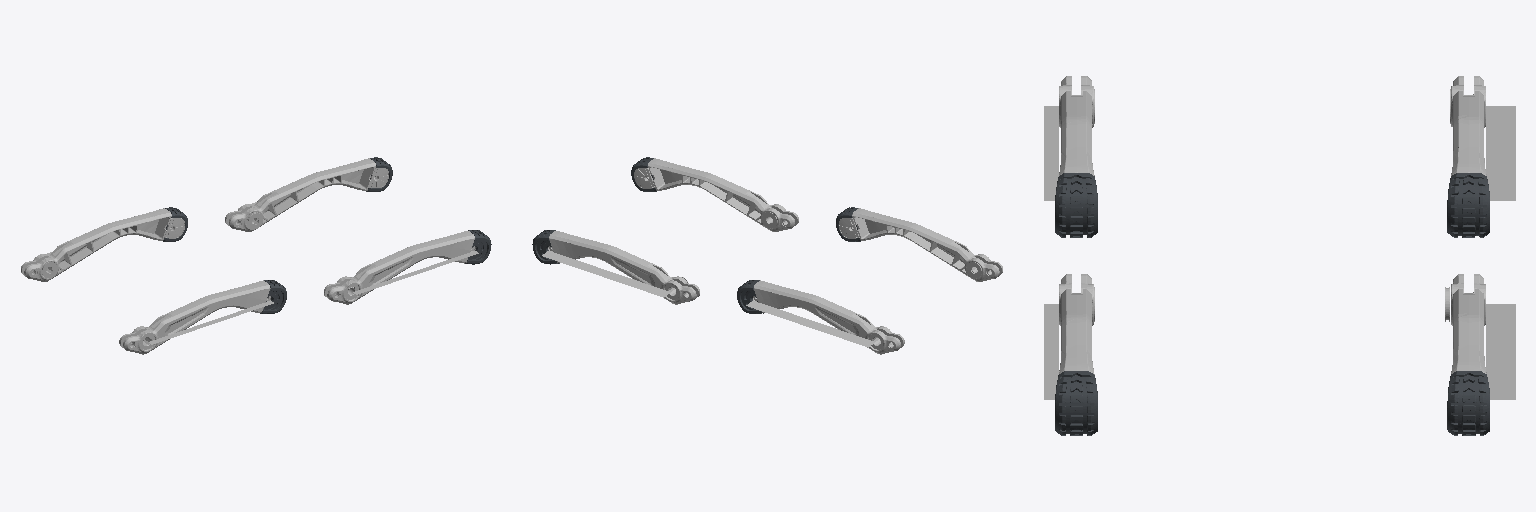
robot.urdf — Argos_2_0114:
<?xml version="1.0" encoding="utf-8"?>
<!-- This URDF was automatically created by SolidWorks to URDF Exporter! Originally created by Stephen Brawner (brawner@gmail.com)
     Commit Version: 1.6.0-4-g7f85cfe  Build Version: 1.6.7995.38578
     For more information, please see http://wiki.ros.org/sw_urdf_exporter -->
<robot
  name="Argos_2_0114">
  <link name="base">
    <inertial>
      <origin xyz="0 0 0" rpy="0 0 0" />
      <mass value="6.240" />
      <inertia ixx="0.02922043" ixy="0" ixz="0" iyy="0.12807702" iyz="0" izz="0.12894751" />
    </inertial>

    <!-- 视觉模型 - 使用STL网格 -->
    <!-- <visual>
      <origin xyz="0.03 0 0" rpy="0 0 0" />
      <geometry>
        <mesh filename="../meshes/TORSO.STL" />
      </geometry>
      <material name="">
        <color rgba="0.75294 0.75294 0.75294 1" />
      </material>
    </visual> -->

    <!-- 碰撞模型 - 使用两个盒子几何体 -->
    <collision>
      <origin xyz="0 0 0.01" rpy="0 0 0"/>
      <geometry>
        <!-- 躯干主要部分的碰撞体 -->
        <box size="0.54 0.16 0.15"/>
      </geometry>
    </collision>
    <collision>
      <origin xyz="-0.01 0 0.01" rpy="0 0 0"/>
      <geometry>
        <!-- 躯干扩展部分的碰撞体 -->
        <box size="0.2 0.2 0.15"/>
      </geometry>
    </collision>

  </link>
  <link
    name="FL_hip">
    <inertial>
      <origin
        xyz="-0.00858663 -0.00606626 0.00210488"
        rpy="0 0 0" />
      <mass
        value="0.544" />
      <inertia
        ixx="0.00035868"
        ixy="0.00"
        ixz="0.00"
        iyy="0.00044821"
        iyz="0.00"
        izz="0.00039697" />
    </inertial>
    <visual>
      <origin
        xyz="0 0 0"
        rpy="0 0 0" />
      <geometry>
        <mesh
          filename="../meshes/FL_HIP.STL" />
      </geometry>
      <material
        name="">
        <color
          rgba="0.752941176470588 0.752941176470588 0.752941176470588 1" />
      </material>
    </visual>
    <collision>
      <origin xyz="0 0.05 0" rpy="1.57079632 0 0"/>
      <geometry>
        <!-- 髋部圆柱体碰撞体 -->
        <cylinder length="0.01" radius="0.04"/>
      </geometry>
    </collision>
  </link>
  <joint
    name="FL_hip_joint"
    type="revolute">
    <origin
      xyz="0.1744 0.054531 -0.015053"
      rpy="0 0 0" />
    <parent
      link="base" />
    <child
      link="FL_hip" />
    <axis xyz="1 0 0" />
    <limit lower="-0.4886" upper="0.4886" effort="21" velocity="22.2" />

  </joint>
  <link
    name="FL_thigh">
    <inertial>
      <origin
        xyz="-0.00433784 -0.02981623 -0.03081075"
        rpy="0 0 0" />
      <mass
        value="1.181" />
      <inertia
        ixx="0.00509108"
        ixy="0"
        ixz="0"
        iyy="0.00508347"
        iyz="0"
        izz="0.00111448" />
    </inertial>
    <visual>
      <origin
        xyz="0 0 0"
        rpy="0 0 0" />
      <geometry>
        <mesh
          filename="../meshes/FL_THIGH.STL" />
      </geometry>
      <material
        name="">
        <color
          rgba="0.752941176470588 0.752941176470588 0.752941176470588 1" />
      </material>
    </visual>
    <collision>
      <origin xyz="-0.012 0 -0.08" rpy="0 0.2 0"/>
      <geometry>
        <!-- 大腿盒子碰撞体 -->
        <box size="0.05 0.04 0.21"/>
      </geometry>
    </collision>
  </link>
  <joint
    name="FL_thigh_joint"
    type="revolute">
    <origin
      xyz="0 0.09134525 0"
      rpy="0 0 0" />
    <parent
      link="FL_hip" />
    <child
      link="FL_thigh" />
    <axis xyz="0 1 0" />
    <limit lower="-0.3525" upper="2.789" effort="21" velocity="22.2" />
  </joint>
  <link
    name="FL_shank">
    <inertial>
      <origin
        xyz="0.00615557 0.00120286 -0.09474520"
        rpy="0 0 0" />
      <mass
        value="0.234" />
      <inertia
        ixx="0.00162293"
        ixy="0"
        ixz="0"
        iyy="0.00164910"
        iyz="0"
        izz="0.00005159" />
    </inertial>
    <visual>
      <origin
        xyz="0 0 0"
        rpy="0 0 0" />
      <geometry>
        <mesh
          filename="../meshes/FL_SHANK.STL" />
      </geometry>
      <material
        name="">
        <color
          rgba="0.752941176470588 0.752941176470588 0.752941176470588 1" />
      </material>
    </visual>
        <!-- 碰撞模型 - 三个圆柱体 -->
    <collision>
        <origin xyz="0.006 0 -0.05" rpy="0 -0.2 0"/>
        <geometry>
            <cylinder length="0.12" radius="0.015"/>
        </geometry>
    </collision>
    <collision>
        <origin xyz="0.018 0 -0.14" rpy="0 0 0"/>
        <geometry>
            <cylinder length="0.03" radius="0.014"/>
        </geometry>
    </collision>
    <collision>
      <origin xyz="0.008 0 -0.18" rpy="0 0.26 0"/>
      <geometry>
        <!-- 小腿下部圆柱体碰撞体 -->
        <cylinder length="0.05" radius="0.016"/>
      </geometry>
    </collision>
  </link>
  <joint
    name="FL_calf_joint"
    type="revolute">
    <origin
      xyz="0 0 -0.2"
      rpy="0 0 0" />
    <parent
      link="FL_thigh" />
    <child
      link="FL_shank" />
    <axis xyz="0 1 0" />
    <limit lower="-2.6929" upper="-0.6335" effort="32" velocity="14.5" />

  </joint>
  <link
    name="FL_foot">
    <inertial>
      <mass value="0.02"/>
      <inertia ixx="0" ixy="0" ixz="0" iyy="0" iyz="0" izz="0"/>
    </inertial>
    <visual>
      <origin
        xyz="0 0 0"
        rpy="0 0 0" />
      <geometry>
        <mesh
          filename="../meshes/FL_FOOT.STL" />
      </geometry>
      <material
        name="">
        <color
          rgba="0.309803921568627 0.329411764705882 0.349019607843137 1" />
      </material>
    </visual>
    <collision>
      <origin xyz="0 0 -0.008" />
      <geometry>
        <!-- 脚部球体碰撞体(半径0.022) -->
        <sphere radius="0.022"/>
      </geometry>
    </collision>
  </link>
  <joint
    name="FL_Ankle"
    type="fixed" dont_collapse="true">
    <origin
      xyz="0 0 -0.21"
      rpy="0 0 0" />
    <parent
      link="FL_shank" />
    <child
      link="FL_foot" />
    <axis
      xyz="0 0 0" />
    <limit
      lower="0"
      upper="0"
      effort="0"
      velocity="0" />
  </joint>
  <link
    name="FR_hip">
    <inertial>
      <origin
        xyz="-0.00858663 0.00606626 0.00210488"
        rpy="0 0 0" />
      <mass
        value="0.544" />
      <inertia
        ixx="0.00035868"
        ixy="0.00"
        ixz="0.00"
        iyy="0.00044821"
        iyz="0.00"
        izz="0.00039697" />
    </inertial>
    <visual>
      <origin
        xyz="0 0 0"
        rpy="0 0 0" />
      <geometry>
        <mesh
          filename="../meshes/FR_HIP.STL" />
      </geometry>
      <material
        name="">
        <color
          rgba="0.752941176470588 0.752941176470588 0.752941176470588 1" />
      </material>
    </visual>
    <collision>
      <origin xyz="0 -0.05 0" rpy="1.57079632 0 0"/>
      <geometry>
        <cylinder length="0.01" radius="0.04"/>
      </geometry>
    </collision>
  </link>
  <joint
    name="FR_hip_joint"
    type="revolute">
    <origin
      xyz="0.1744 -0.054531 -0.015053"
      rpy="0 0 0" />
    <parent
      link="base" />
    <child
      link="FR_hip" />
    <axis xyz="1 0 0" />
    <limit lower="-0.4886" upper="0.4886" effort="21" velocity="22.2" />

  </joint>
  <link
    name="FR_thigh">
    <inertial>
      <origin
        xyz="-0.00433784 0.02981623 -0.03081075"
        rpy="0 0 0" />
      <mass
        value="1.181" />
      <inertia
        ixx="0.00509108"
        ixy="0"
        ixz="0"
        iyy="0.00508347"
        iyz="0"
        izz="0.00111448" />
    </inertial>
    <visual>
      <origin
        xyz="0 0 0"
        rpy="0 0 0" />
      <geometry>
        <mesh
          filename="../meshes/FR_THIGH.STL" />
      </geometry>
      <material
        name="">
        <color
          rgba="0.752941176470588 0.752941176470588 0.752941176470588 1" />
      </material>
    </visual>
    <collision>
      <origin xyz="-0.012 0 -0.08" rpy="0 0.2 0"/>
      <geometry>
        <!-- 大腿盒子碰撞体 -->
        <box size="0.05 0.04 0.21"/>
      </geometry>
    </collision>
  </link>
  <joint
    name="FR_thigh_joint"
    type="revolute">
    <origin
      xyz="0 -0.09134525 0"
      rpy="0 0 0" />
    <parent
      link="FR_hip" />
    <child
      link="FR_thigh" />
    <axis xyz="0 1 0" />
    <limit lower="-0.3525" upper="2.789" effort="21" velocity="22.2" />

  </joint>
  <link
    name="FR_shank">
    <inertial>
      <origin
        xyz="0.00615557 -0.00120286 -0.09474520"
        rpy="0 0 0" />
      <mass
        value="0.234" />
      <inertia
        ixx="0.00162293"
        ixy="0"
        ixz="0"
        iyy="0.00164910"
        iyz="0"
        izz="0.00005159" />
    </inertial>
    <visual>
      <origin
        xyz="0 0 0"
        rpy="0 0 0" />
      <geometry>
        <mesh
          filename="../meshes/FR_SHANK.STL" />
      </geometry>
      <material
        name="">
        <color
          rgba="0.752941176470588 0.752941176470588 0.752941176470588 1" />
      </material>
    </visual>
          <!-- 碰撞模型 - 三个圆柱体 -->
    <collision>
        <origin xyz="0.006 0 -0.05" rpy="0 -0.2 0"/>
        <geometry>
            <cylinder length="0.12" radius="0.015"/>
        </geometry>
    </collision>
    <collision>
        <origin xyz="0.018 0 -0.14" rpy="0 0 0"/>
        <geometry>
            <cylinder length="0.03" radius="0.014"/>
        </geometry>
    </collision>
    <collision>
      <origin xyz="0.008 0 -0.18" rpy="0 0.26 0"/>
      <geometry>
        <!-- 小腿下部圆柱体碰撞体 -->
        <cylinder length="0.05" radius="0.016"/>
      </geometry>
    </collision>
  </link>
  <joint
    name="FR_calf_joint"
    type="revolute">
    <origin
      xyz="0 0 -0.2"
      rpy="0 0 0" />
    <parent
      link="FR_thigh" />
    <child
      link="FR_shank" />
    <axis xyz="0 1 0" />
    <limit lower="-2.6929" upper="-0.6335" effort="32" velocity="14.5" />

  </joint>
  <link
    name="FR_foot">
    <inertial>
      <mass value="0.02"/>
      <inertia ixx="0" ixy="0" ixz="0" iyy="0" iyz="0" izz="0"/>
    </inertial>
    <visual>
      <origin
        xyz="0 0 0"
        rpy="0 0 0" />
      <geometry>
        <mesh
          filename="../meshes/FR_FOOT.STL" />
      </geometry>
      <material
        name="">
        <color
          rgba="0.309803921568627 0.329411764705882 0.349019607843137 1" />
      </material>
    </visual>
     <collision>
      <origin xyz="0 0 -0.008" />
      <geometry>
        <sphere radius="0.022"/>
      </geometry>
    </collision>
  </link>
  <joint
    name="FR_Ankle"
    type="fixed" dont_collapse="true">
    <origin
      xyz="0 0 -0.21"
      rpy="0 0 0" />
    <parent
      link="FR_shank" />
    <child
      link="FR_foot" />
    <axis
      xyz="0 0 0" />
    <limit
      lower="0"
      upper="0"
      effort="0"
      velocity="0" />
  </joint>
  <link
    name="HL_hip">
    <inertial>
      <origin
        xyz="0.00858663 -0.00606626 0.00210488"
        rpy="0 0 0" />
      <mass
        value="0.544" />
      <inertia
        ixx="0.00035868"
        ixy="0.00"
        ixz="0.00"
        iyy="0.00044821"
        iyz="0.00"
        izz="0.00039697" />
    </inertial>
    <visual>
      <origin
        xyz="0 0 0"
        rpy="0 0 0" />
      <geometry>
        <mesh
          filename="../meshes/HL_HIP.STL" />
      </geometry>
      <material
        name="">
        <color
          rgba="0.752941176470588 0.752941176470588 0.752941176470588 1" />
      </material>
    </visual>
    <collision>
      <origin xyz="0 0.05 0" rpy="1.57079632 0 0"/>
      <geometry>
        <cylinder length="0.01" radius="0.04"/>
      </geometry>
    </collision>
  </link>
  <joint
    name="RL_hip_joint"
    type="revolute">
    <origin
      xyz="-0.1744 0.054531 -0.015053"
      rpy="0 0 0" />
    <parent
      link="base" />
    <child
      link="HL_hip" />
    <axis xyz="1 0 0" />
    <limit lower="-0.4886" upper="0.4886" effort="21" velocity="22.2" />

  </joint>
  <link
    name="HL_thigh">
    <inertial>
      <origin
        xyz="-0.00433784 -0.02981623 -0.03081075"
        rpy="0 0 0" />
      <mass
        value="1.181" />
      <inertia
        ixx="0.00509108"
        ixy="0"
        ixz="0"
        iyy="0.00508347"
        iyz="0"
        izz="0.00111448" />
    </inertial>
    <visual>
      <origin
        xyz="0 0 0"
        rpy="0 0 0" />
      <geometry>
        <mesh
          filename="../meshes/HL_THIGH.STL" />
      </geometry>
      <material
        name="">
        <color
          rgba="0.752941176470588 0.752941176470588 0.752941176470588 1" />
      </material>
    </visual>
    <collision>
      <origin xyz="-0.012 0 -0.08" rpy="0 0.2 0"/>
      <geometry>
        <!-- 大腿盒子碰撞体 -->
        <box size="0.05 0.04 0.21"/>
      </geometry>
    </collision>
  </link>
  <joint
    name="RL_thigh_joint"
    type="revolute">
    <origin
      xyz="0 0.09134525 0"
      rpy="0 0 0" />
    <parent
      link="HL_hip" />
    <child
      link="HL_thigh" />
    <axis xyz="0 1 0" />
    <limit lower="-0.3525" upper="2.789" effort="21" velocity="22.2" />

  </joint>
  <link
    name="HL_shank">
    <inertial>
      <origin
        xyz="0.00615557 0.00120286 -0.09474520"
        rpy="0 0 0" />
      <mass
        value="0.234" />
      <inertia
        ixx="0.00162293"
        ixy="0"
        ixz="0"
        iyy="0.00164910"
        iyz="0"
        izz="0.00005159" />
    </inertial>
    <visual>
      <origin
        xyz="0 0 0"
        rpy="0 0 0" />
      <geometry>
        <mesh
          filename="../meshes/HL_SHANK.STL" />
      </geometry>
      <material
        name="">
        <color
          rgba="0.752941176470588 0.752941176470588 0.752941176470588 1" />
      </material>
    </visual>
        <!-- 碰撞模型 - 三个圆柱体 -->
        <collision>
        <origin xyz="0.006 0 -0.05" rpy="0 -0.2 0"/>
        <geometry>
            <cylinder length="0.12" radius="0.015"/>
        </geometry>
    </collision>
    <collision>
        <origin xyz="0.018 0 -0.14" rpy="0 0 0"/>
        <geometry>
            <cylinder length="0.03" radius="0.014"/>
        </geometry>
    </collision>
    <collision>
      <origin xyz="0.008 0 -0.18" rpy="0 0.26 0"/>
      <geometry>
        <!-- 小腿下部圆柱体碰撞体 -->
        <cylinder length="0.05" radius="0.016"/>
      </geometry>
    </collision>
  </link>
  <joint
    name="RL_calf_joint"
    type="revolute">
    <origin
      xyz="0 0 -0.2"
      rpy="0 0 0" />
    <parent
      link="HL_thigh" />
    <child
      link="HL_shank" />
    <axis xyz="0 1 0" />
    <limit lower="-2.6929" upper="-0.6335" effort="32" velocity="14.5" />

  </joint>
  <link
    name="HL_foot">
    <inertial>
      <mass value="0.02"/>
      <inertia ixx="0" ixy="0" ixz="0" iyy="0" iyz="0" izz="0"/>
    </inertial>
    <visual>
      <origin
        xyz="0 0 0"
        rpy="0 0 0" />
      <geometry>
        <mesh
          filename="../meshes/HL_FOOT.STL" />
      </geometry>
      <material
        name="">
        <color
          rgba="0.309803921568627 0.329411764705882 0.349019607843137 1" />
      </material>
    </visual>
    <collision>
      <origin xyz="0 0 -0.008" />
      <geometry>
        <!-- 脚部球体碰撞体(半径0.022) -->
        <sphere radius="0.022"/>
      </geometry>
    </collision>
  </link>
  <joint
    name="HL_Ankle"
    type="fixed" dont_collapse="true">
    <origin
      xyz="0 0 -0.21"
      rpy="0 0 0" />
    <parent
      link="HL_shank" />
    <child
      link="HL_foot" />
    <axis
      xyz="0 0 0" />
    <limit
      lower="0"
      upper="0"
      effort="0"
      velocity="0" />
  </joint>
  <link
    name="HR_hip">
    <inertial>
      <origin
        xyz="0.00858663 0.00606626 0.00210488"
        rpy="0 0 0" />
      <mass
        value="0.544" />
      <inertia
        ixx="0.00035868"
        ixy="0.00"
        ixz="0.00"
        iyy="0.00044821"
        iyz="0.00"
        izz="0.00039697" />
    </inertial>
    <visual>
      <origin
        xyz="0 0 0"
        rpy="0 0 0" />
      <geometry>
        <mesh
          filename="../meshes/HR_HIP.STL" />
      </geometry>
      <material
        name="">
        <color
          rgba="0.752941176470588 0.752941176470588 0.752941176470588 1" />
      </material>
    </visual>
    <collision>
      <origin xyz="0 -0.05 0" rpy="1.57079632 0 0"/>
      <geometry>
        <cylinder length="0.01" radius="0.04"/>
      </geometry>
    </collision>
  </link>
  <joint
    name="RR_hip_joint"
    type="revolute">
    <origin
      xyz="-0.1744 -0.054531 -0.015053"
      rpy="0 0 0" />
    <parent
      link="base" />
    <child
      link="HR_hip" />
    <axis xyz="1 0 0" />
    <limit lower="-0.4886" upper="0.4886" effort="21" velocity="22.2" />

  </joint>
  <link
    name="HR_thigh">
    <inertial>
      <origin
        xyz="-0.00433784 0.02981623 -0.03081075"
        rpy="0 0 0" />
      <mass
        value="1.181" />
      <inertia
        ixx="0.00509108"
        ixy="0"
        ixz="0"
        iyy="0.00508347"
        iyz="0"
        izz="0.00111448" />
    </inertial>
    <visual>
      <origin
        xyz="0 0 0"
        rpy="0 0 0" />
      <geometry>
        <mesh
          filename="../meshes/HR_THIGH.STL" />
      </geometry>
      <material
        name="">
        <color
          rgba="0.752941176470588 0.752941176470588 0.752941176470588 1" />
      </material>
    </visual>
    <collision>
      <origin xyz="-0.012 0 -0.08" rpy="0 0.2 0"/>
      <geometry>
        <!-- 大腿盒子碰撞体 -->
        <box size="0.05 0.04 0.21"/>
      </geometry>
    </collision>
  </link>
  <joint
    name="RR_thigh_joint"
    type="revolute">
    <origin
      xyz="0 -0.09134525 0"
      rpy="0 0 0" />
    <parent
      link="HR_hip" />
    <child
      link="HR_thigh" />
    <axis xyz="0 1 0" />
    <limit lower="-0.3525" upper="2.789" effort="21" velocity="22.2" />

  </joint>
  <link
    name="HR_shank">
    <inertial>
      <origin
        xyz="0.00615557 -0.00120286 -0.09474520"
        rpy="0 0 0" />
      <mass
        value="0.234" />
      <inertia
        ixx="0.00162293"
        ixy="0"
        ixz="0"
        iyy="0.00164910"
        iyz="0"
        izz="0.00005159" />
    </inertial>
    <visual>
      <origin
        xyz="0 0 0"
        rpy="0 0 0" />
      <geometry>
        <mesh
          filename="../meshes/HR_SHANK.STL" />
      </geometry>
      <material
        name="">
        <color
          rgba="0.752941176470588 0.752941176470588 0.752941176470588 1" />
      </material>
    </visual>
         <!-- 碰撞模型 - 三个圆柱体 -->
        <collision>
        <origin xyz="0.006 0 -0.05" rpy="0 -0.2 0"/>
        <geometry>
            <cylinder length="0.12" radius="0.015"/>
        </geometry>
    </collision>
    <collision>
        <origin xyz="0.018 0 -0.14" rpy="0 0 0"/>
        <geometry>
            <cylinder length="0.03" radius="0.014"/>
        </geometry>
    </collision>
    <collision>
      <origin xyz="0.008 0 -0.18" rpy="0 0.26 0"/>
      <geometry>
        <!-- 小腿下部圆柱体碰撞体 -->
        <cylinder length="0.05" radius="0.016"/>
      </geometry>
    </collision>
  </link>
  <joint
    name="RR_calf_joint"
    type="revolute">
    <origin
      xyz="0 0 -0.2"
      rpy="0 0 0" />
    <parent
      link="HR_thigh" />
    <child
      link="HR_shank" />
    <axis xyz="0 1 0" />
    <limit lower="-2.6929" upper="-0.6335" effort="32" velocity="14.5" />

  </joint>
  <link
    name="HR_foot">
    <inertial>
      <mass value="0.02"/>
      <inertia ixx="0" ixy="0" ixz="0" iyy="0" iyz="0" izz="0"/>
    </inertial>
    <visual>
      <origin
        xyz="0 0 0"
        rpy="0 0 0" />
      <geometry>
        <mesh
          filename="../meshes/HR_FOOT.STL" />
      </geometry>
      <material
        name="">
        <color
          rgba="0.309803921568627 0.329411764705882 0.349019607843137 1" />
      </material>
    </visual>
    <collision>
      <origin xyz="0 0 -0.008" />
      <geometry>
        <!-- 脚部球体碰撞体(半径0.022) -->
        <sphere radius="0.022"/>
      </geometry>
    </collision>
  </link>
  <joint
    name="HR_Ankle"
    type="fixed" dont_collapse="true">
    <origin
      xyz="0 0 -0.21"
      rpy="0 0 0" />
    <parent
      link="HR_shank" />
    <child
      link="HR_foot" />
    <axis
      xyz="0 0 0" />
    <limit
      lower="0"
      upper="0"
      effort="0"
      velocity="0" />
  </joint>
  <!-- ============================================= -->
  <!--                   头部                        -->
  <!-- =============================================-->
  <link name="HEAD">
    <inertial>
      <origin xyz="0.02429563 -0.00102927 0.04350887" rpy="0 0 0" />
      <mass value="0.33600000" />
      <inertia ixx="0.00055557" ixy="0" ixz="0" iyy="0.00078690" iyz="0" izz="0.00071445" />
    </inertial>

    <!-- <visual>
      <origin xyz="0 0 0" rpy="0 0 0" />
      <geometry>
        <mesh filename="../meshes/HEAD.STL" />
      </geometry>
      <material name="">
        <color rgba="0.752941176470588 0.752941176470588 0.752941176470588 1" />
      </material>
    </visual> -->

    <!-- 头部碰撞模型 - 使用盒子几何体 -->
    <collision>
      <origin xyz="0.05 0 0.03" rpy="0 0 0" />
      <geometry>
        <!-- 头部盒子碰撞体 -->
        <box size="0.18 0.1 0.11"/>
      </geometry>
    </collision>
  </link>

  <!-- 头部关节 -->
  <joint name="HEAD_joint" type="fixed">
    <origin xyz="0.24949 -0.00025653 0.12248" rpy="0 0 0" />
    <parent link="base" />
    <child link="HEAD" />
    <axis xyz="-0.47569 0 -0.87961" />
    <limit lower="0" upper="0" effort="0" velocity="0" />
  </joint>
</robot>

--- What the picture shows (computed from the rendered views, not written in the file) ---
The picture shows the robot from 3 angles, left to right: view 1: azimuth 30°, elevation 25°; view 2: azimuth 150°, elevation 25°; view 3: azimuth 270°, elevation 25°; orthographic projection.
Model Argos_2_0114 with 18 links and 17 joints (12 revolute, 5 fixed), rooted at base, posed all joints at 0 but 4 set to mid-range because 0 is outside their limits (FL_calf_joint = -1.66, FR_calf_joint = -1.66, RL_calf_joint = -1.66, RR_calf_joint = -1.66).
Visible links, largest first — view 1: FR_shank, HL_shank, HR_shank, FL_shank, HR_foot; view 2: FL_shank, HL_shank, FR_shank, HR_shank; view 3: FL_shank, HL_shank, FR_shank, HR_shank, FR_foot, HR_foot, FL_foot, HL_foot.
Boxes of the visible links, box(x1,y1,x2,y2) form: FR_shank: box(324, 231, 478, 304); HL_shank: box(21, 208, 184, 281); HR_shank: box(119, 280, 273, 354); FL_shank: box(225, 158, 388, 231); HR_foot: box(260, 280, 286, 313); FL_shank: box(542, 231, 699, 304); HL_shank: box(746, 280, 904, 354); FR_shank: box(634, 158, 798, 231); HR_shank: box(839, 208, 1002, 281); FL_shank: box(1445, 274, 1515, 399); HL_shank: box(1450, 76, 1515, 200); FR_shank: box(1044, 274, 1094, 399); HR_shank: box(1044, 76, 1094, 200); FR_foot: box(1055, 371, 1097, 435); HR_foot: box(1055, 173, 1097, 237); FL_foot: box(1447, 371, 1489, 435); HL_foot: box(1447, 173, 1489, 237).
Bounding box of the posed robot: 0.6248 × 0.3504 × 0.0651 m (x, y, z).
8 mesh visuals loaded from 16 distinct referenced files (8 binary STL); not drawn: 8 (reference not matched to a file when rendering).
